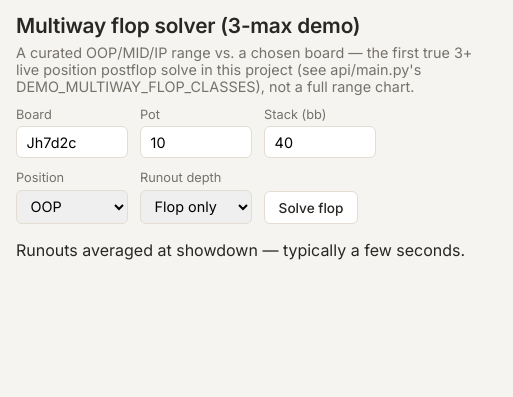
Test: MultiwayFlopSolver › marks an untrained combo with a low-data indicator, and not a trained one
Click the button "Solve flop" at (311, 208), box [264,191,358,224]
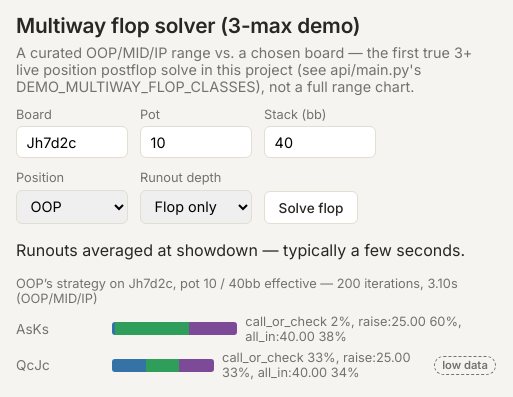
Expected: the text "AsKs" does not show "low data", [16,314,496,344]
Now the text "AsKs" is shown, box [16,321,49,337]
Now the text "low data" is shown, box [434,356,496,375]
